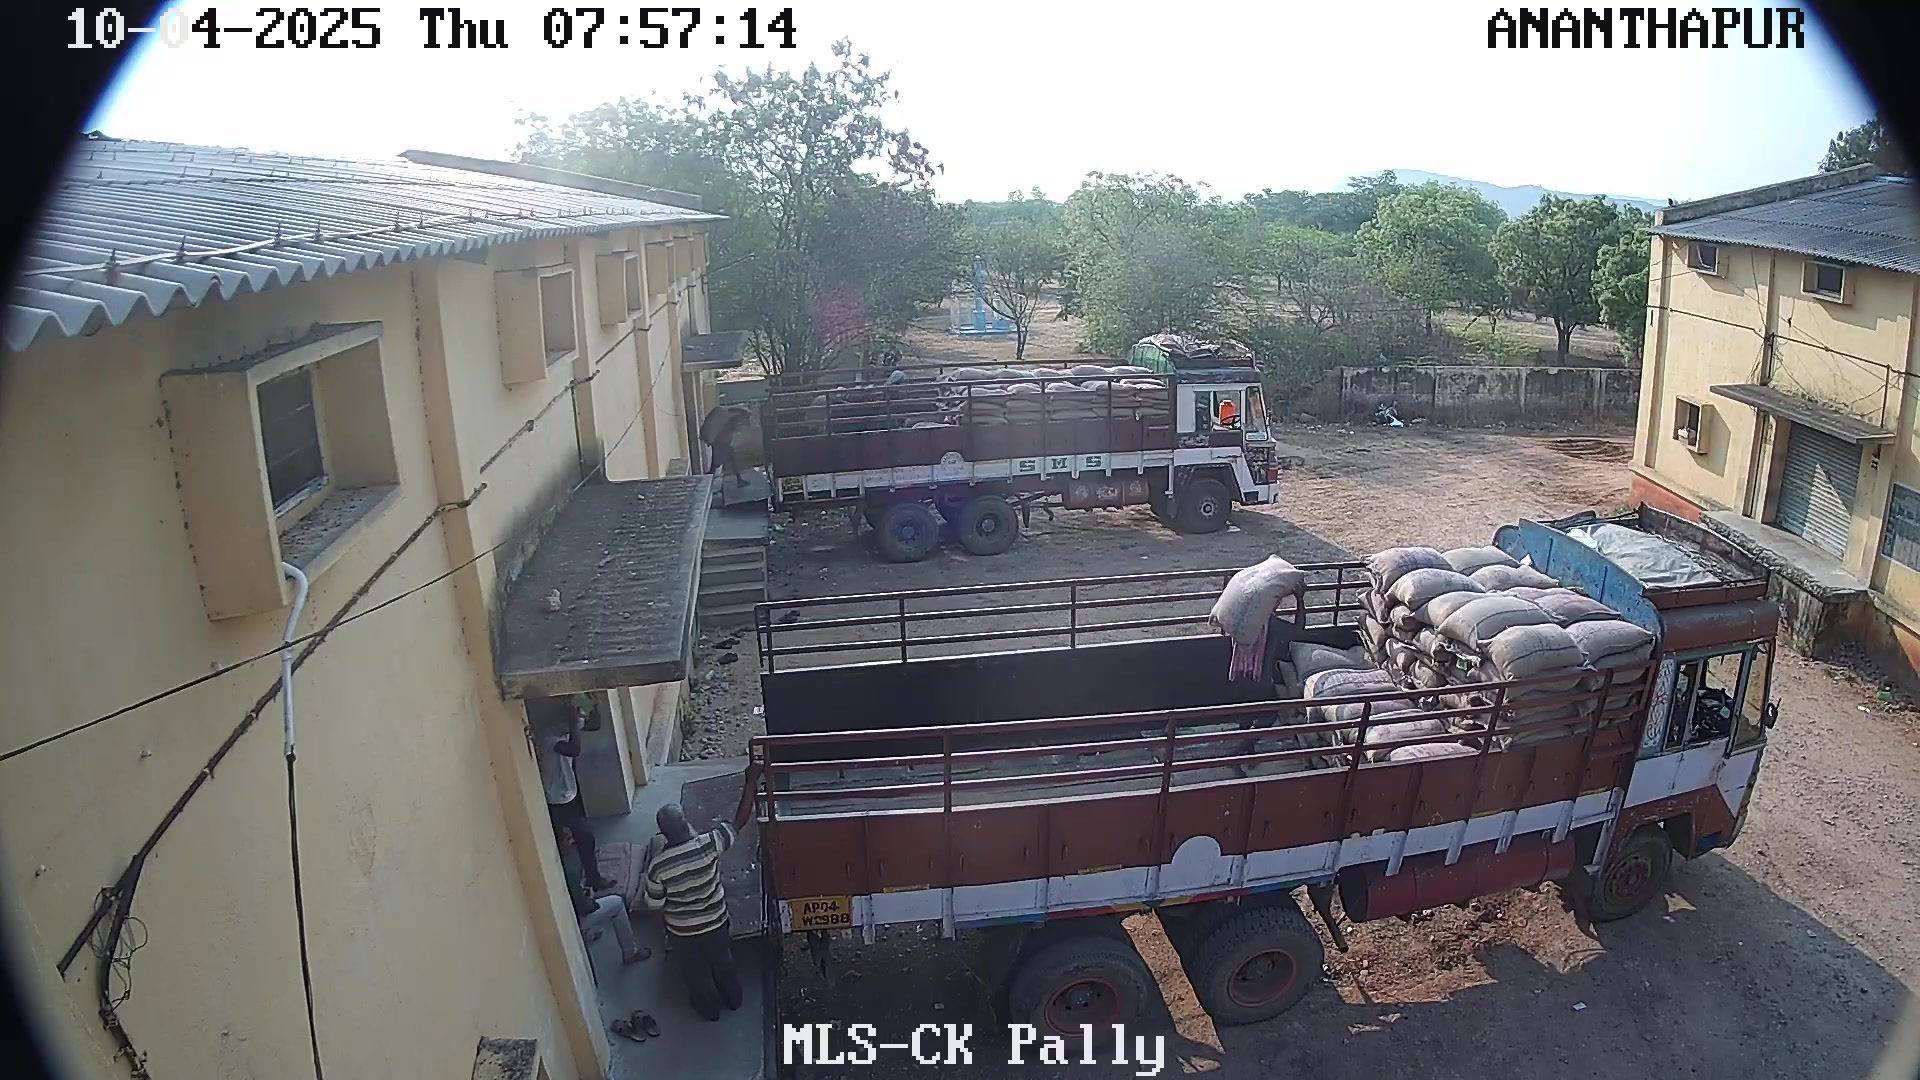gunny_bag_counting: (1208, 549, 1299, 641)
gunny_bag_ignore: (649, 295, 1278, 530), (1309, 510, 1677, 847), (1275, 651, 1305, 731)
